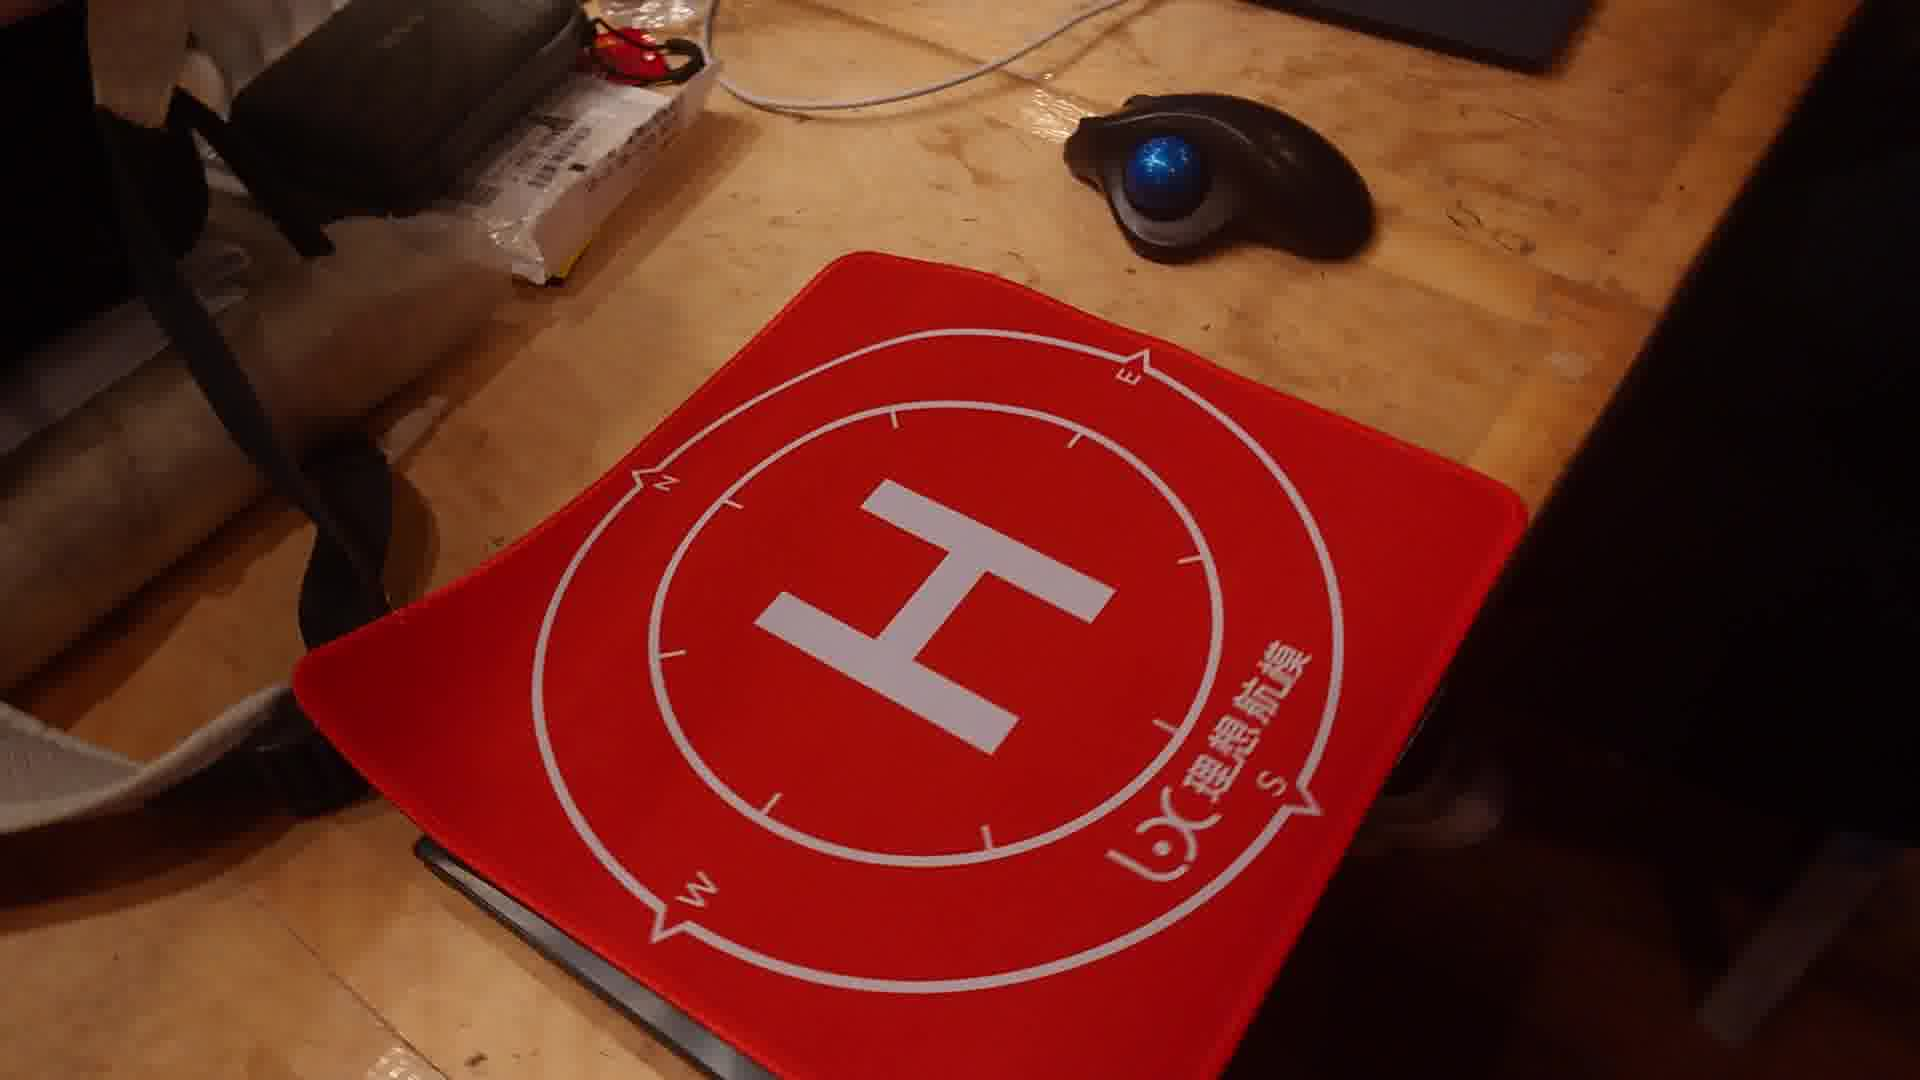H: (752, 472, 1117, 760)
